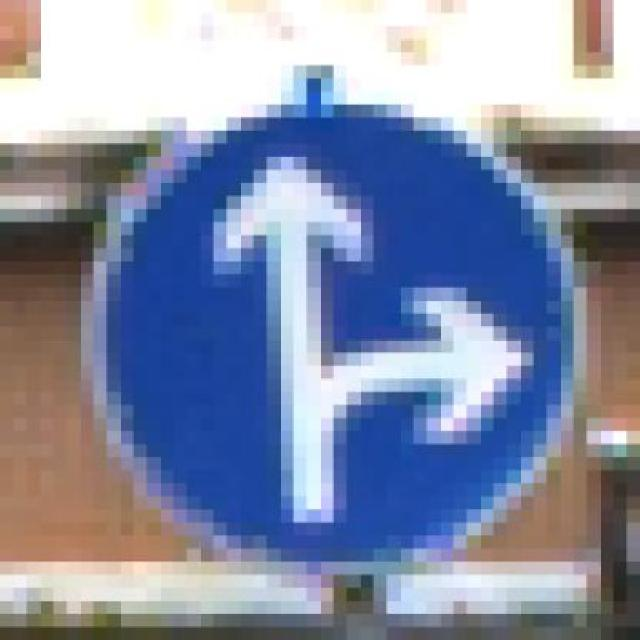Go Straight or Turn Right: (66, 65, 600, 588)
